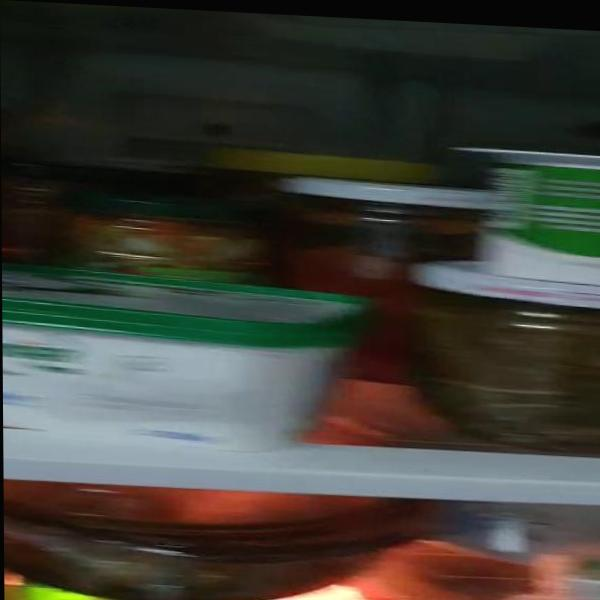cheese: (2, 266, 367, 452)
yoghurt: (452, 145, 600, 284)
